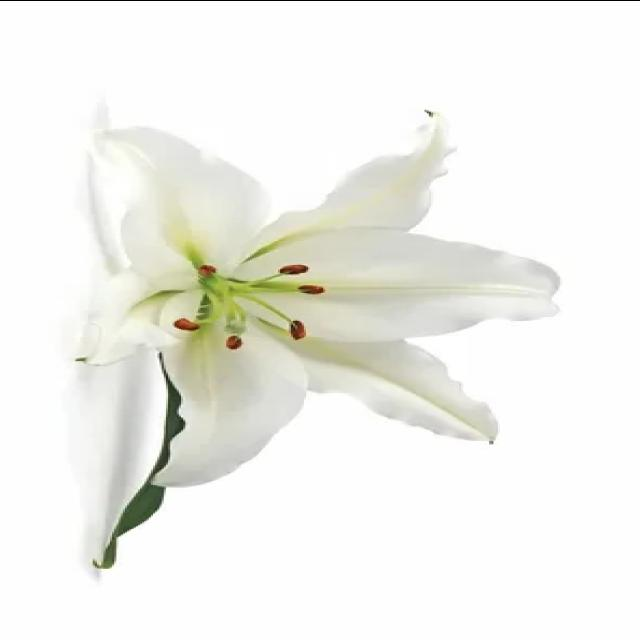lily: (58, 85, 578, 501)
